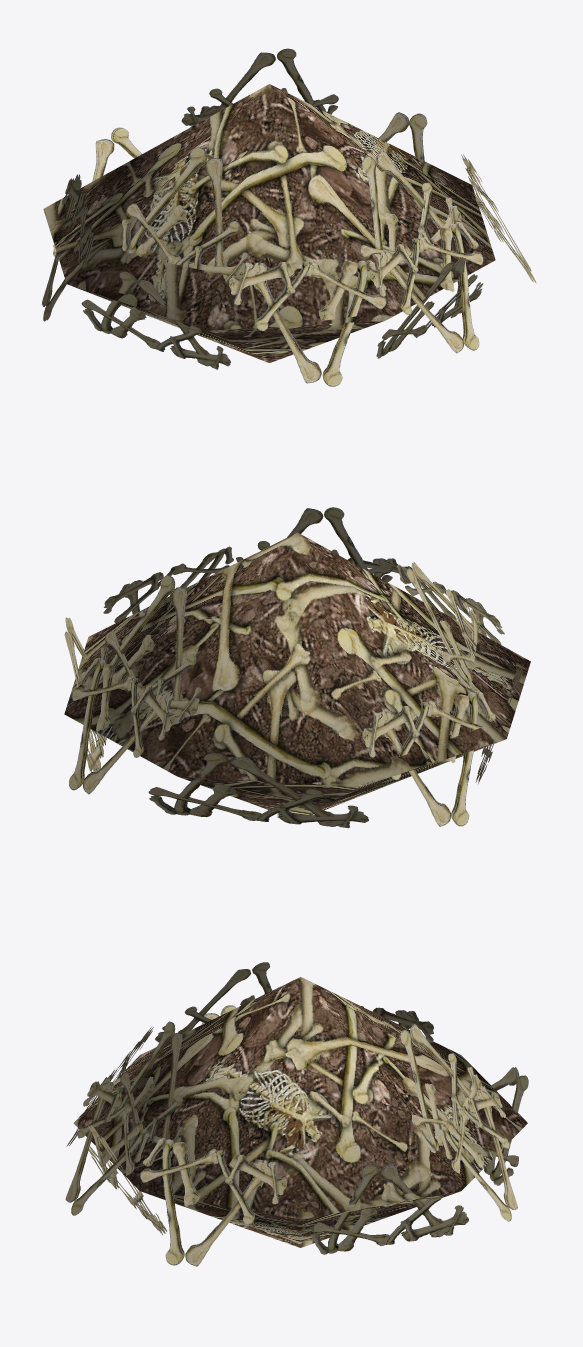
Rendered from poi_all_lair_bones_l3.fbx.
The picture shows the model from 3 angles, top to bottom: view 1: azimuth 30°, elevation 25°; view 2: azimuth 150°, elevation 25°; view 3: azimuth 270°, elevation 25°; orthographic projection. The views are drawn at different scales.
Visible parts, largest first — view 1: mesh_node; view 2: mesh_node; view 3: mesh_node.
Part boxes in pixels (bbox=[...]): mesh_node: bbox=[42, 48, 536, 386]; mesh_node: bbox=[64, 507, 530, 828]; mesh_node: bbox=[65, 962, 528, 1266].
Size of the model in its own units: 1.55 by 0.9154 by 1.59.
